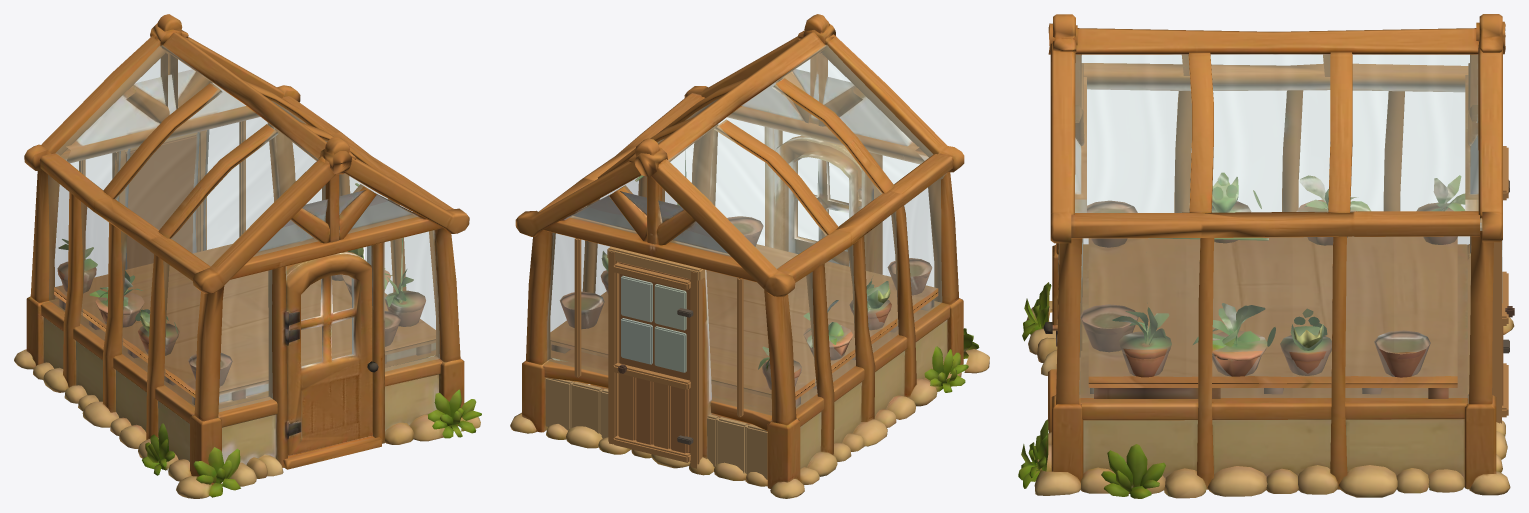
The picture shows the model from 3 angles, left to right: view 1: azimuth 30°, elevation 25°; view 2: azimuth 150°, elevation 25°; view 3: azimuth 270°, elevation 25°; orthographic projection. The views are drawn at different scales.
Visible parts, largest first — view 1: tripo_node_73a4eb71-1321-47de-914f-13309d7531d2, 지붕 및 벽 비닐, 외형 세부; view 2: tripo_node_73a4eb71-1321-47de-914f-13309d7531d2, 지붕 및 벽 비닐, 외형 세부; view 3: tripo_node_73a4eb71-1321-47de-914f-13309d7531d2, 지붕 및 벽 비닐, 외형 세부.
Boxes of the visible parts, x1=… form: tripo_node_73a4eb71-1321-47de-914f-13309d7531d2: x1=14, y1=14, x2=481, y2=498; 지붕 및 벽 비닐: x1=48, y1=45, x2=439, y2=411; 외형 세부: x1=79, y1=120, x2=268, y2=415; tripo_node_73a4eb71-1321-47de-914f-13309d7531d2: x1=510, y1=14, x2=989, y2=498; 지붕 및 벽 비닐: x1=547, y1=45, x2=946, y2=415; 외형 세부: x1=545, y1=238, x2=796, y2=479; tripo_node_73a4eb71-1321-47de-914f-13309d7531d2: x1=1018, y1=14, x2=1514, y2=498; 지붕 및 벽 비닐: x1=1075, y1=55, x2=1481, y2=403; 외형 세부: x1=1492, y1=146, x2=1514, y2=423.
Bounding box in the file's own units: 4.77 × 4.65 × 5.2.
3 materials, 2 textured.
